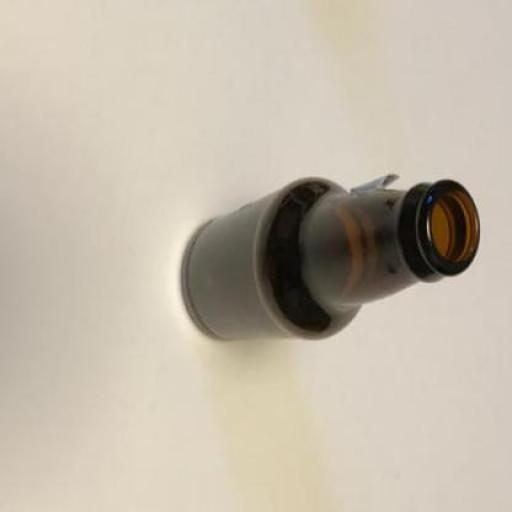glass: (184, 182, 482, 344)
